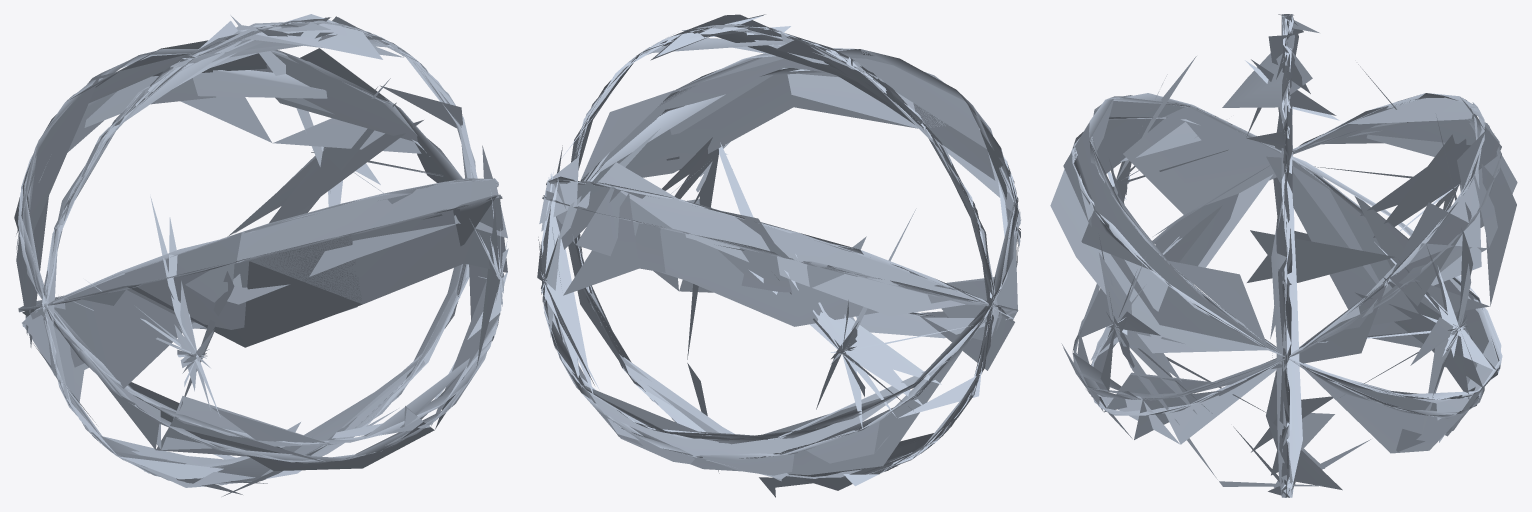
The model's file is stage10.glb.
3 renders of one model, left to right at view 1: azimuth 30°, elevation 25°; view 2: azimuth 150°, elevation 25°; view 3: azimuth 270°, elevation 25°, orthographic. The views are drawn at different scales.
Parts seen in each view (by area): view 1: dsf-10-structural; view 2: dsf-10-structural; view 3: dsf-10-structural.
Part boxes in pixels (<box>): dsf-10-structural: <box>14,14,508,496</box>; dsf-10-structural: <box>537,14,1021,497</box>; dsf-10-structural: <box>1050,14,1517,497</box>.
Size of the model in its own units: 2 by 2 by 1.93.
